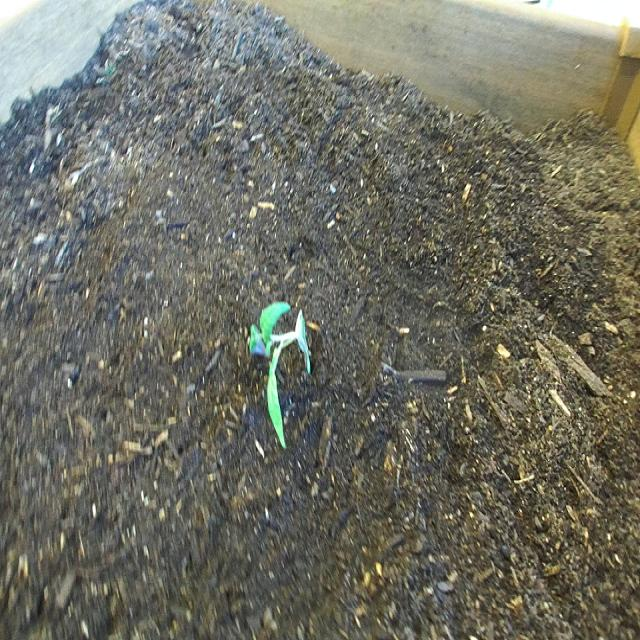Healthy: (247, 297, 316, 458)
